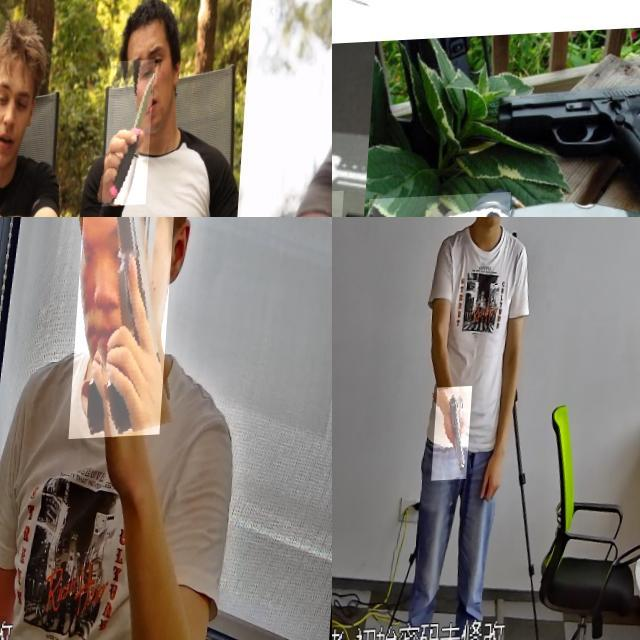-: (529, 0, 640, 84), (332, 0, 424, 88), (109, 62, 161, 208), (80, 0, 154, 88), (372, 197, 518, 217)
gun-knife-thesis - v11 Yolov5 augmented: (74, 217, 179, 442), (438, 389, 478, 483)
